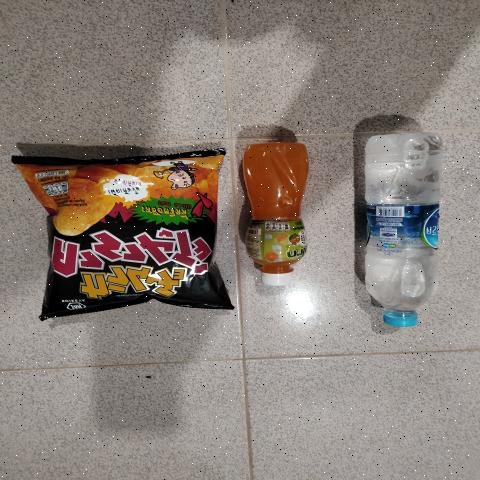crystal: (376, 134, 435, 298)
karamujo: (59, 162, 222, 311)
